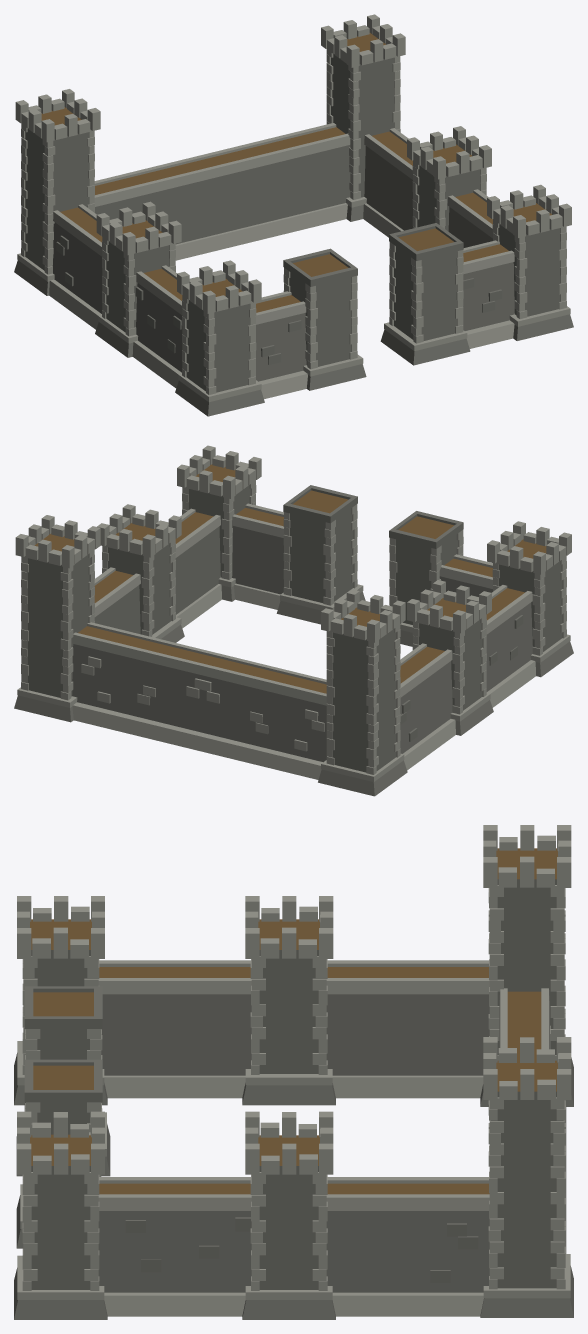
The model's file is castle.glb.
3 renders of one model, top to bottom at view 1: azimuth 30°, elevation 25°; view 2: azimuth 150°, elevation 25°; view 3: azimuth 270°, elevation 25°, orthographic. The views are drawn at different scales.
Parts seen in each view (by area): view 1: WonderWalls_SecondAge; view 2: WonderWalls_SecondAge; view 3: WonderWalls_SecondAge.
Boxes of the visible parts, left/top/right/bottom form: WonderWalls_SecondAge: left=14, top=14, right=573, bottom=416; WonderWalls_SecondAge: left=14, top=445, right=573, bottom=796; WonderWalls_SecondAge: left=14, top=825, right=573, bottom=1319.
Size of the model in its own units: 2.1 by 0.9369 by 1.96.
